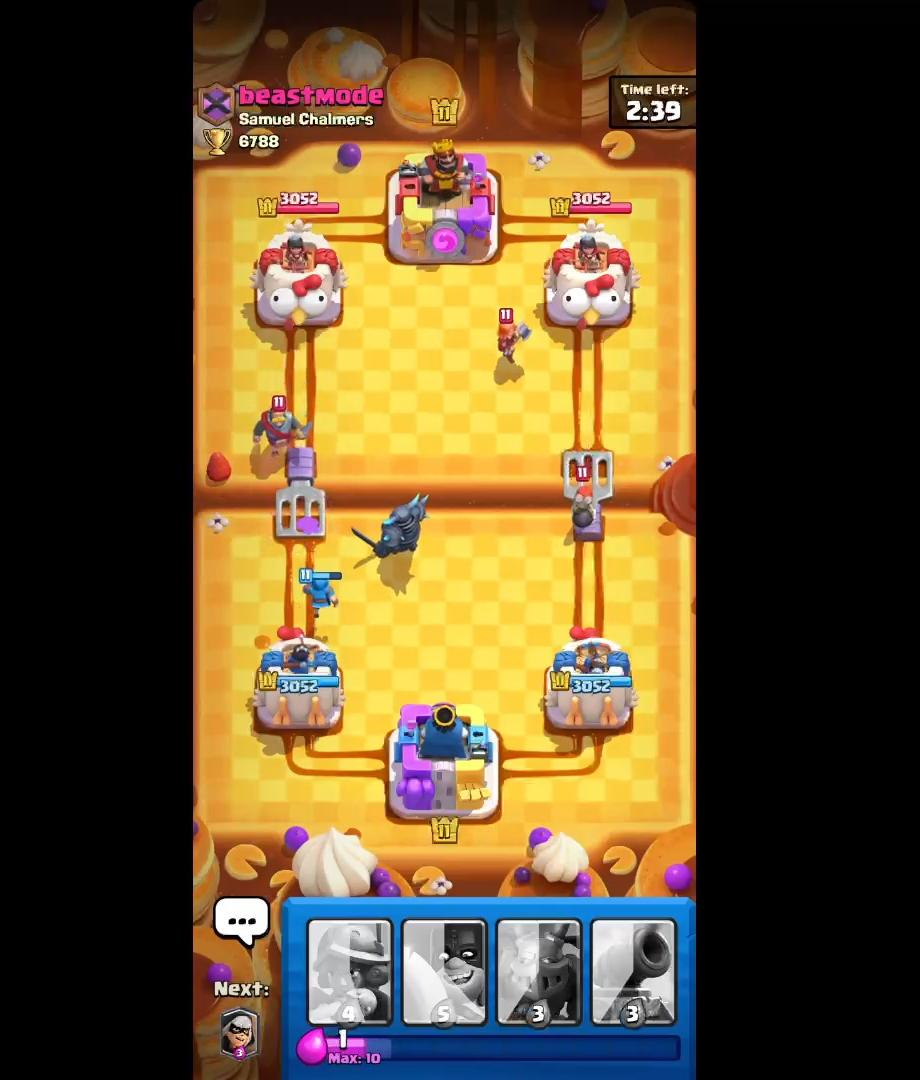Bomber: (561, 460, 602, 528)
Knight: (248, 392, 306, 459)
Valkyrie: (486, 301, 535, 369)
